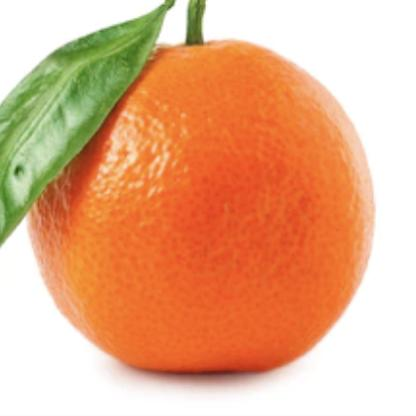fresh: (26, 37, 370, 368)
